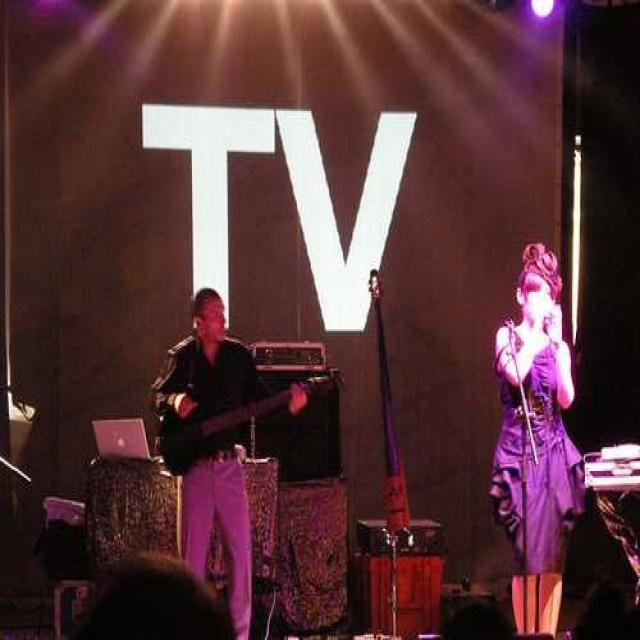microphone: (365, 266, 383, 303), (544, 305, 560, 340), (506, 317, 516, 340)
